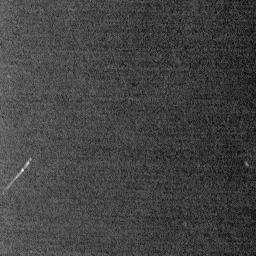sct: (3, 156, 35, 197)
